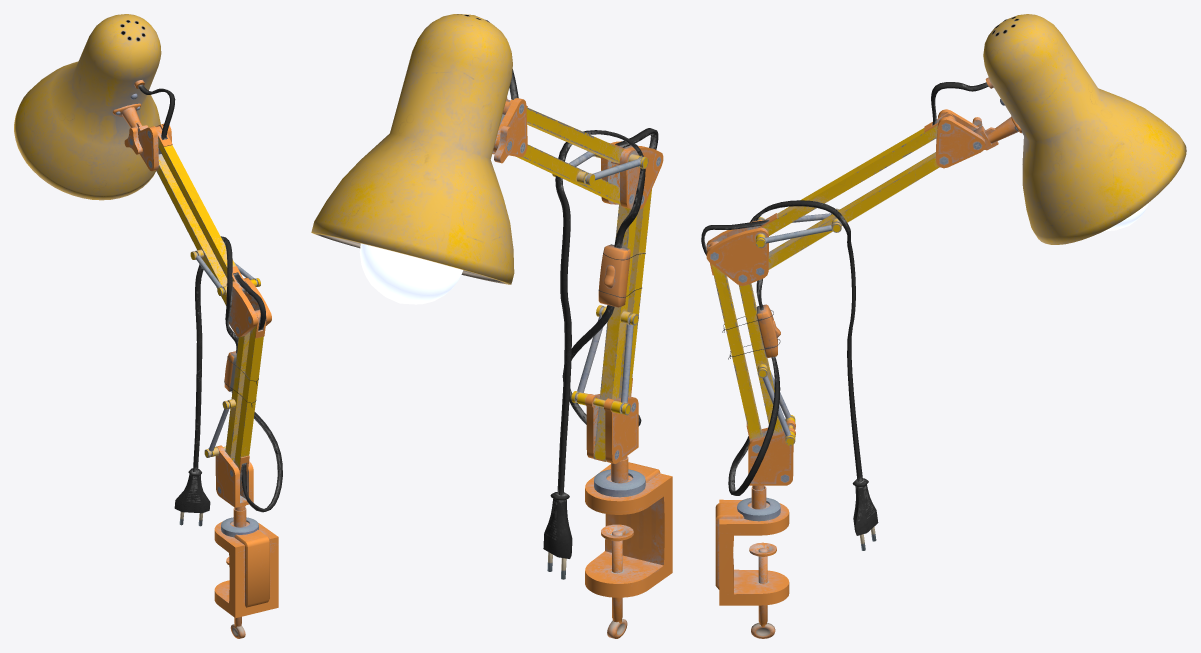
File: a_table_lamp__low_poly.glb
The picture shows the model from 3 angles, left to right: view 1: azimuth 30°, elevation 25°; view 2: azimuth 150°, elevation 25°; view 3: azimuth 270°, elevation 25°; orthographic projection. The views are drawn at different scales.
Visible parts, largest first — view 1: lamp_final; view 2: lamp_final; view 3: lamp_final.
Part boxes in pixels (x1,y1,x2,y2): lamp_final: (14,14,282,638); lamp_final: (311,14,672,638); lamp_final: (701,14,1186,638).
Size of the model in its own units: 13.33 by 52.07 by 36.98.
Materials: 1 (1 with a texture image).
